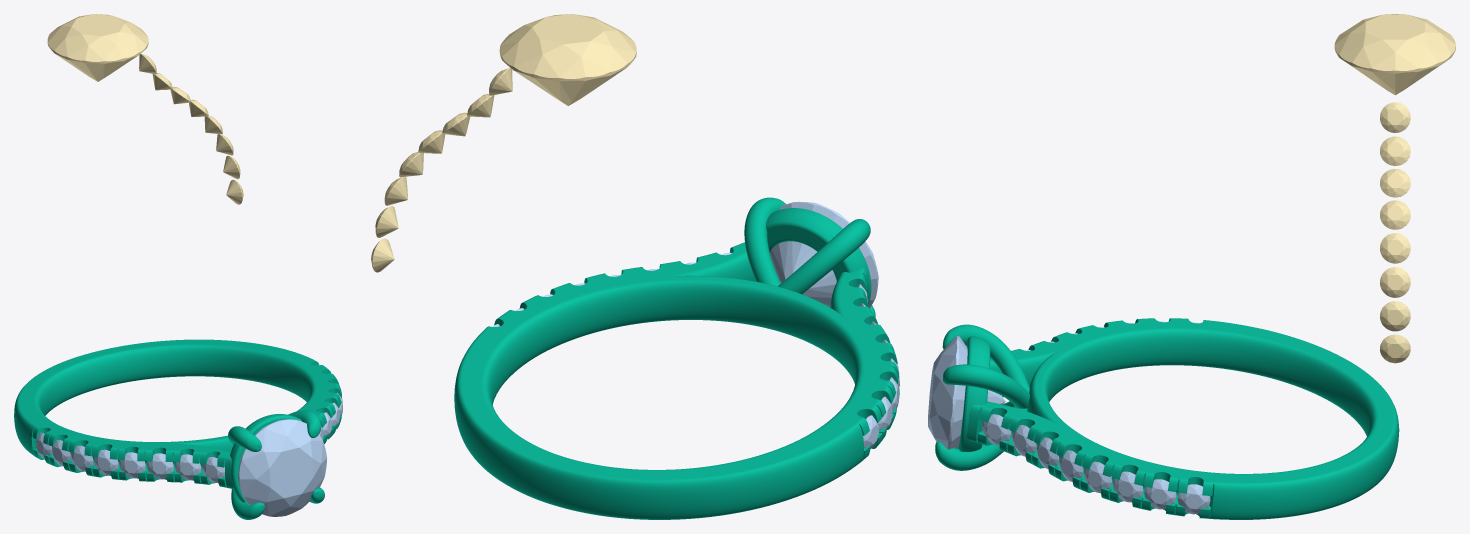
3 views of the same model, side by side, from view 1: azimuth 30°, elevation 25°; view 2: azimuth 150°, elevation 25°; view 3: azimuth 270°, elevation 25° (orthographic). The views are drawn at different scales.
Visible parts, largest first — view 1: JTC 11860(base).3dm, Diamond_Round (×2), Gem On Curve Advanced Gem (×6); view 2: JTC 11860(base).3dm, Diamond_Round (×2); view 3: JTC 11860(base).3dm, Diamond_Round (×2), Gem On Curve Advanced Gem (×12).
Part boxes in pixels (bbox=[...]): JTC 11860(base).3dm: bbox=[14, 339, 341, 519]; Diamond_Round (×2): bbox=[47, 14, 326, 516]; Gem On Curve Advanced Gem (×6): bbox=[71, 445, 224, 482]; JTC 11860(base).3dm: bbox=[454, 197, 899, 519]; Diamond_Round (×2): bbox=[499, 14, 878, 307]; JTC 11860(base).3dm: bbox=[935, 318, 1399, 519]; Diamond_Round (×2): bbox=[928, 14, 1455, 449]; Gem On Curve Advanced Gem (×12): bbox=[982, 102, 1410, 514].
Bounding box in the file's own units: 2.52 × 3.01 × 3.37.
